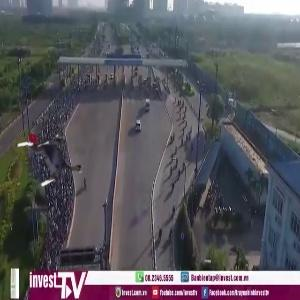drone: (19, 127, 84, 192)
